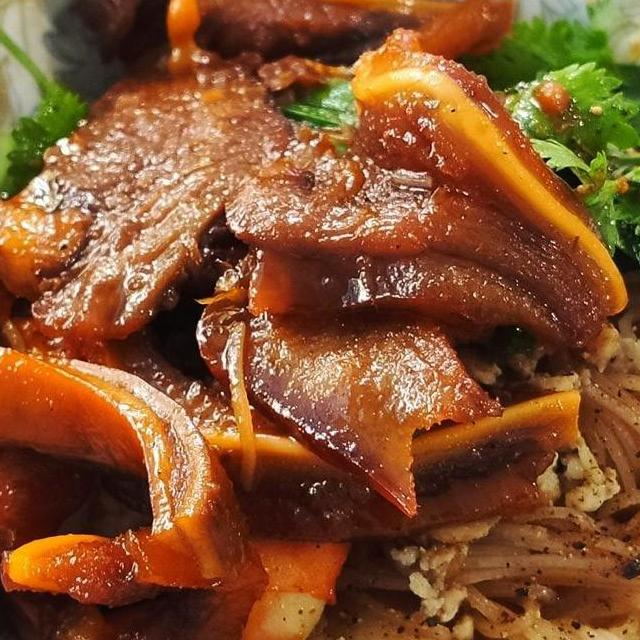banh hu tieu: (242, 509, 640, 640), (517, 241, 640, 626)
hu tieu: (0, 0, 640, 640)
thit heo: (217, 89, 640, 479), (0, 28, 308, 350)
